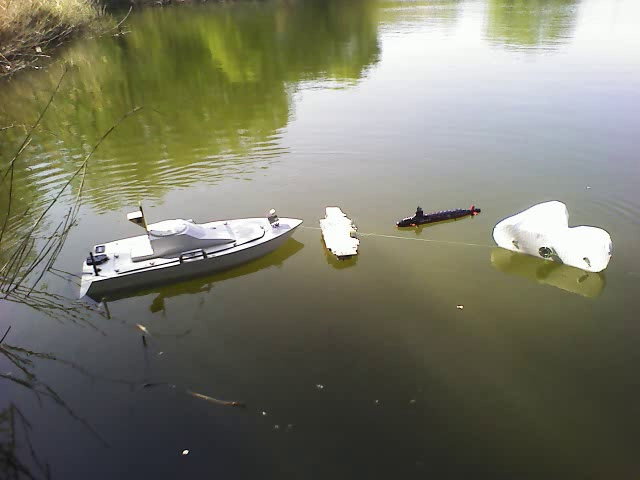aircraft_carrier: (321, 204, 361, 262)
boat: (76, 209, 303, 298)
iceberg: (494, 199, 612, 280)
submarine: (399, 200, 481, 231)
